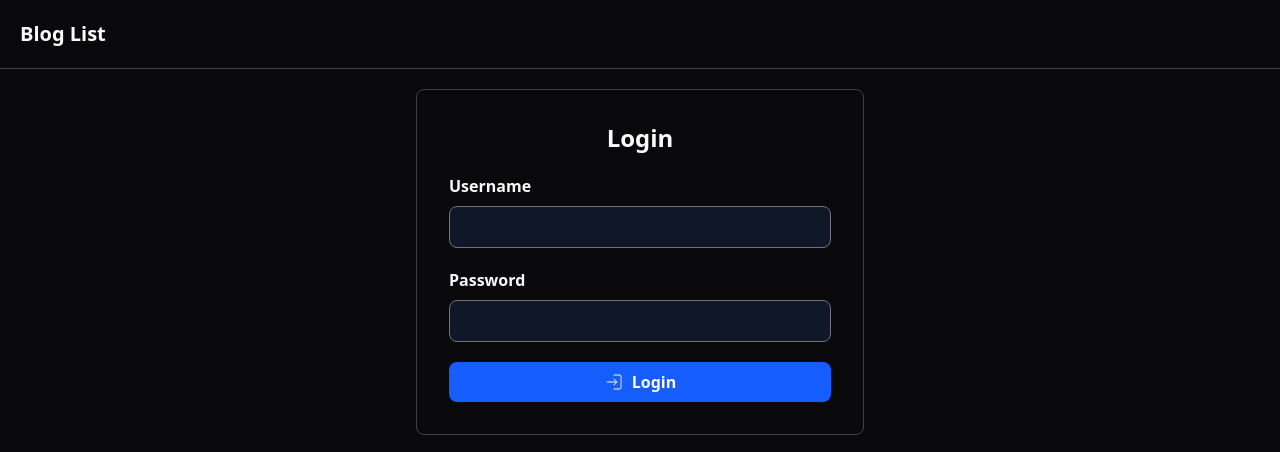
Test: Blog app › Login › fails with wrong credentials
Type "john_doe" into the field with id "username" at (640, 227), box 449,206 -> 831,248
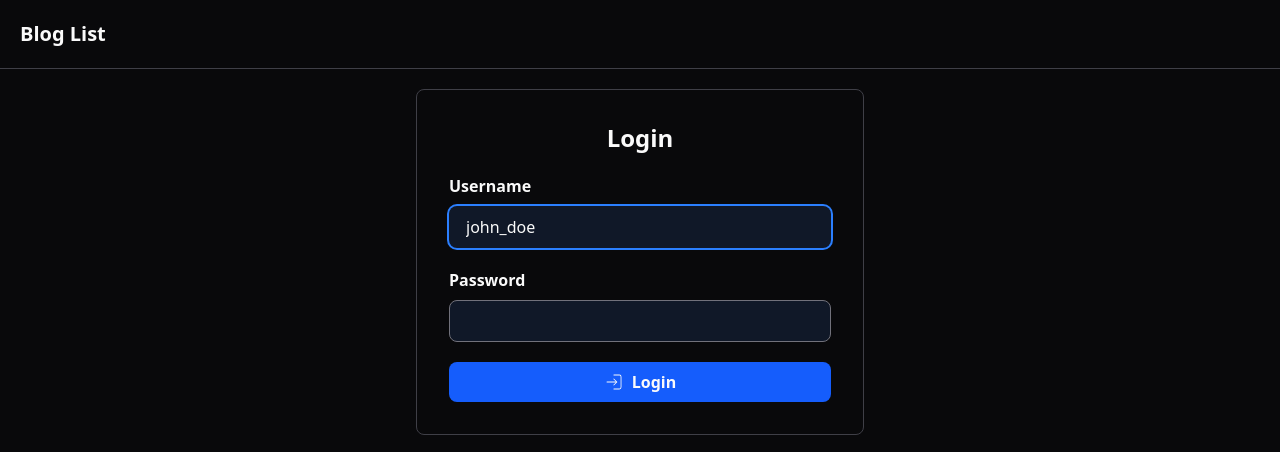
Type "wrongPassword" into the password field labelled "Password" at (640, 321), box 449,300 -> 831,342
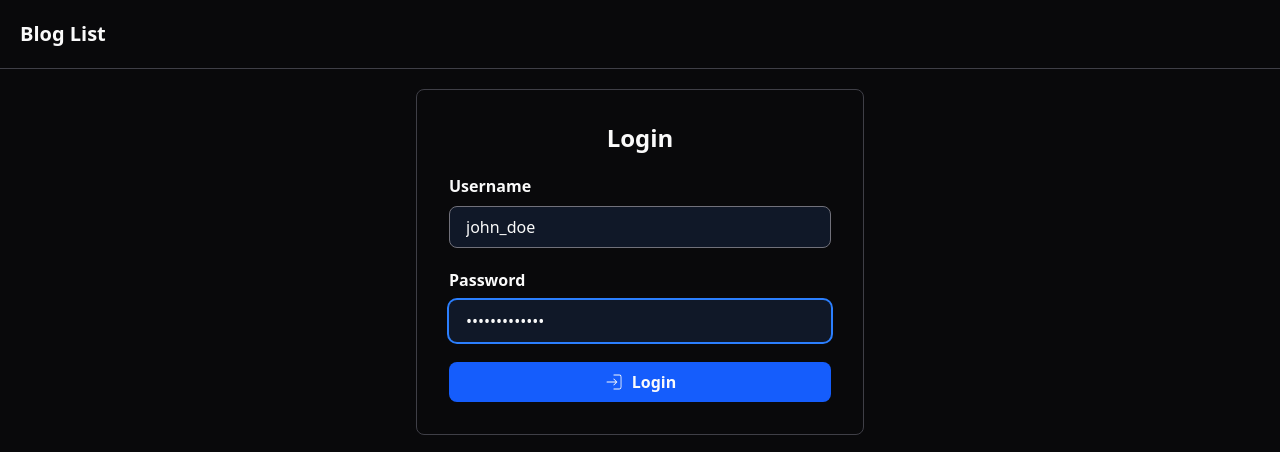
Click the button with id "login-button" at (640, 382), box 449,362 -> 831,402
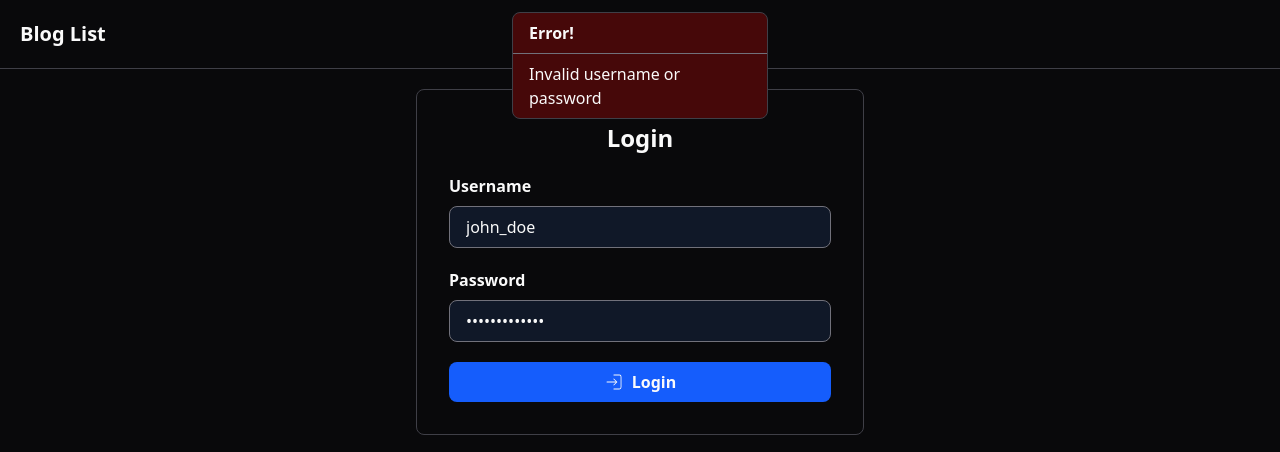
expect the heading with class "notification-container" reads "Error!": met, box 529,22 -> 574,44
expect the text with class "notification-container" reads "Invalid username or password": met, box 529,63 -> 680,109
